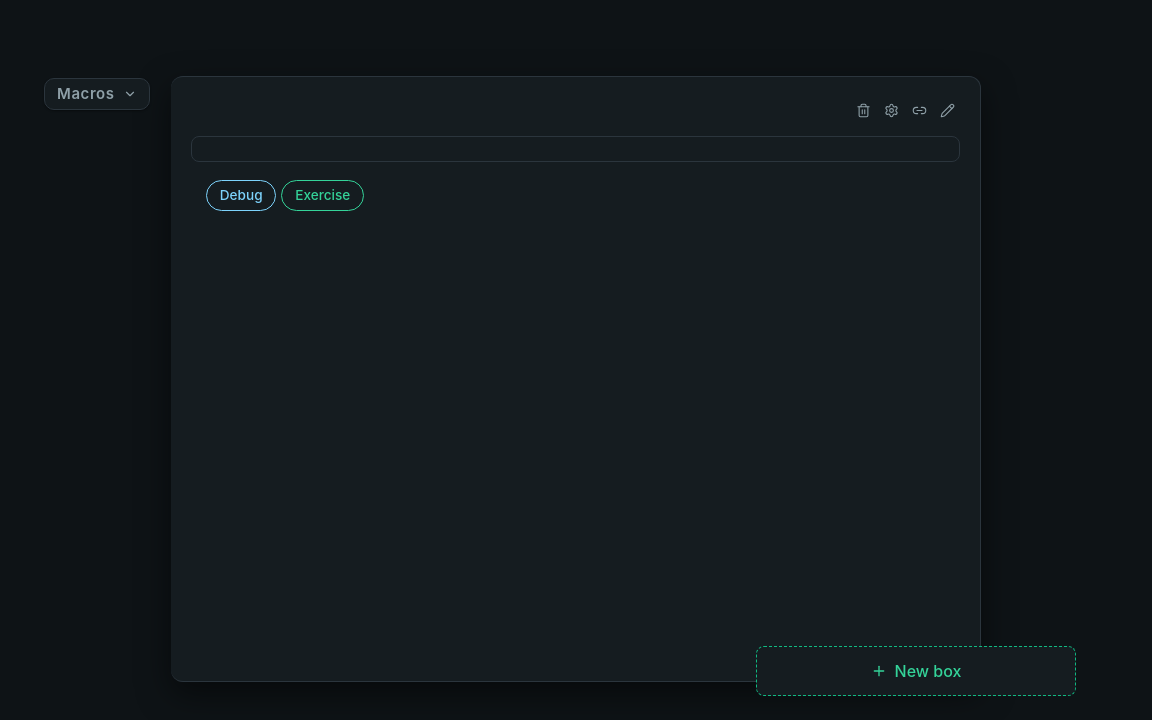
pill opens first try in zen on an unfocused box
Click the button with class "macro-dock--head": click(97, 94) x1=44 y1=78 x2=150 y2=110
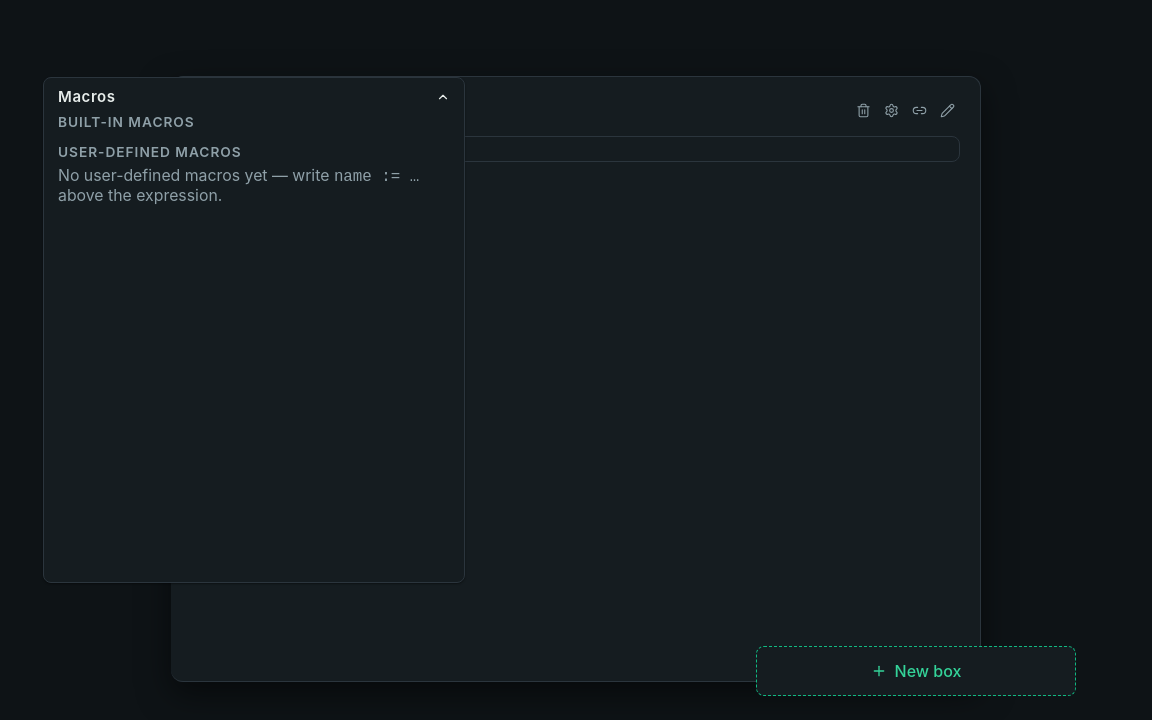
Expected: the element with class "macro-dock--open" is shown, x1=43 y1=77 x2=465 y2=583
